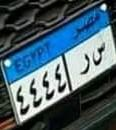4: (15, 83, 30, 116), (30, 77, 43, 109), (55, 57, 66, 94), (43, 70, 52, 100)
ر: (80, 45, 95, 75)
س: (93, 38, 108, 69)
